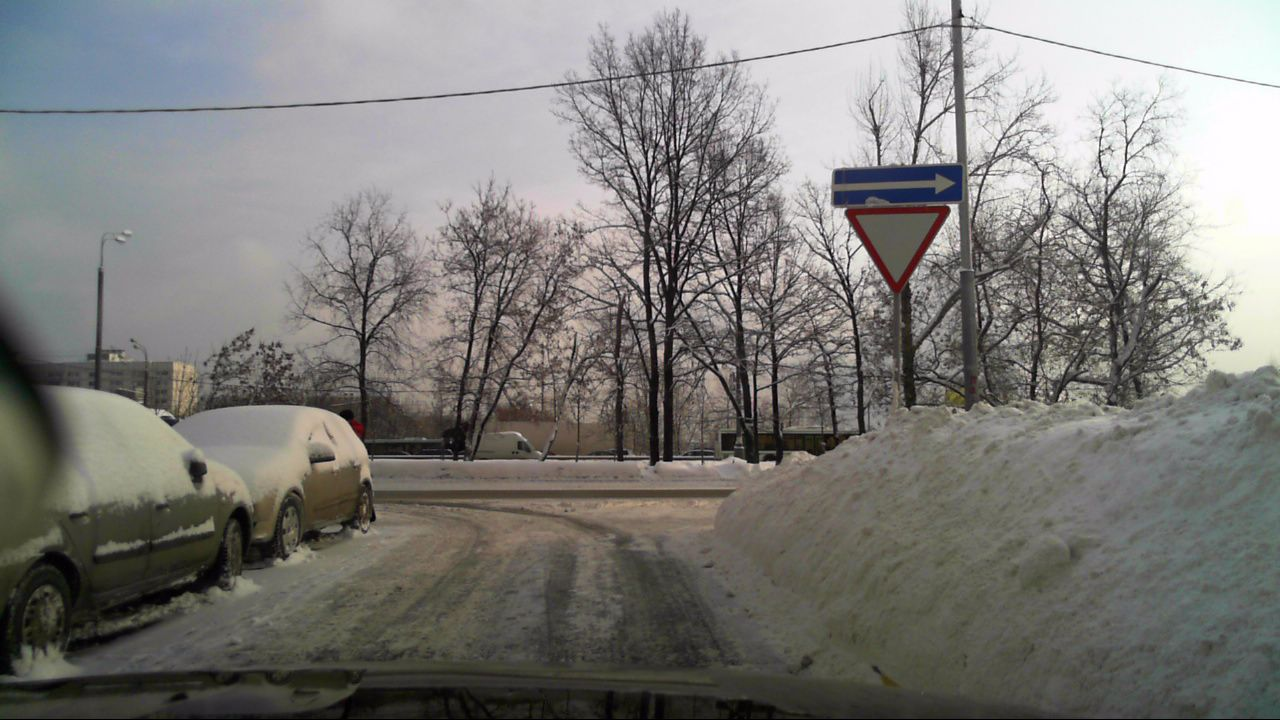One-Way Traffic: (831, 167, 963, 206)
